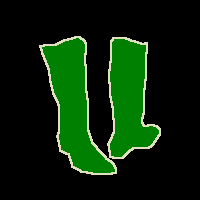shoe: (40, 36, 116, 174), (108, 38, 160, 158)
